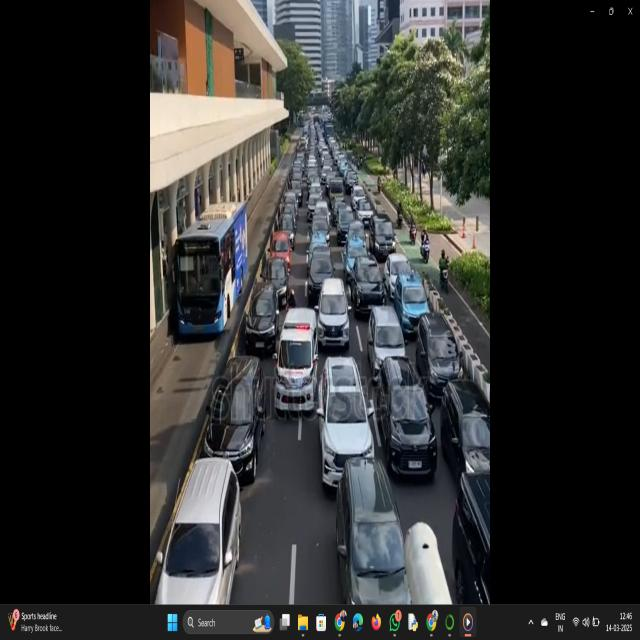Ambulance: (271, 305, 327, 422)
